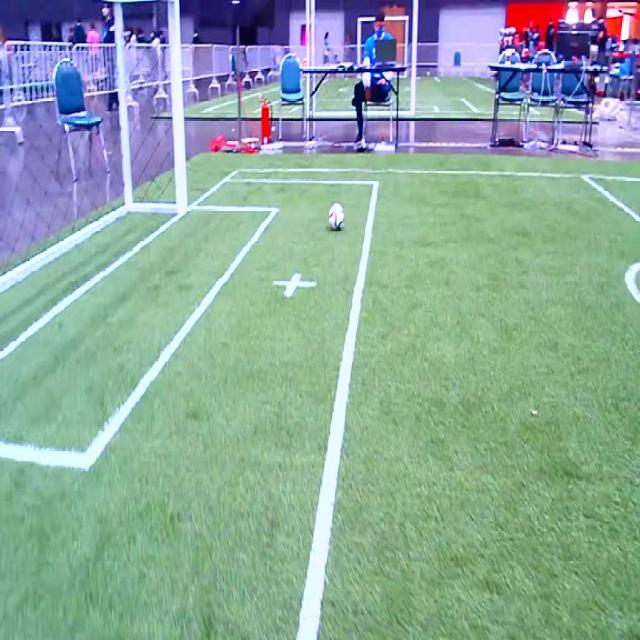ball: (328, 202, 344, 228)
